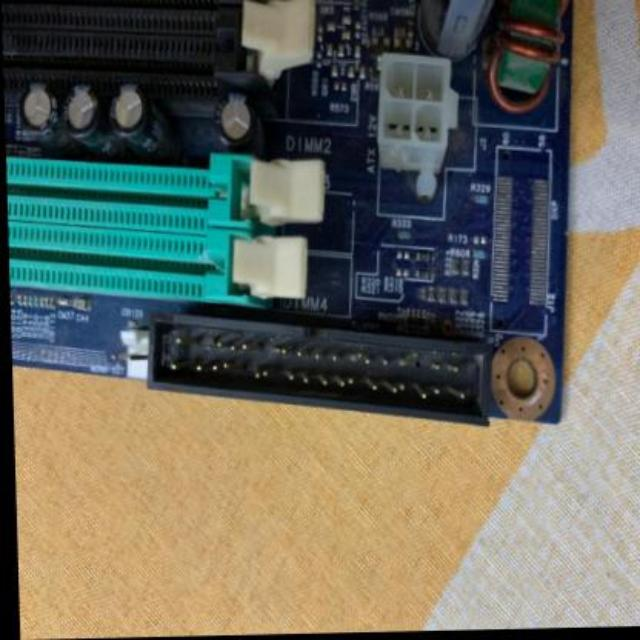PCB: (3, 9, 575, 434)
